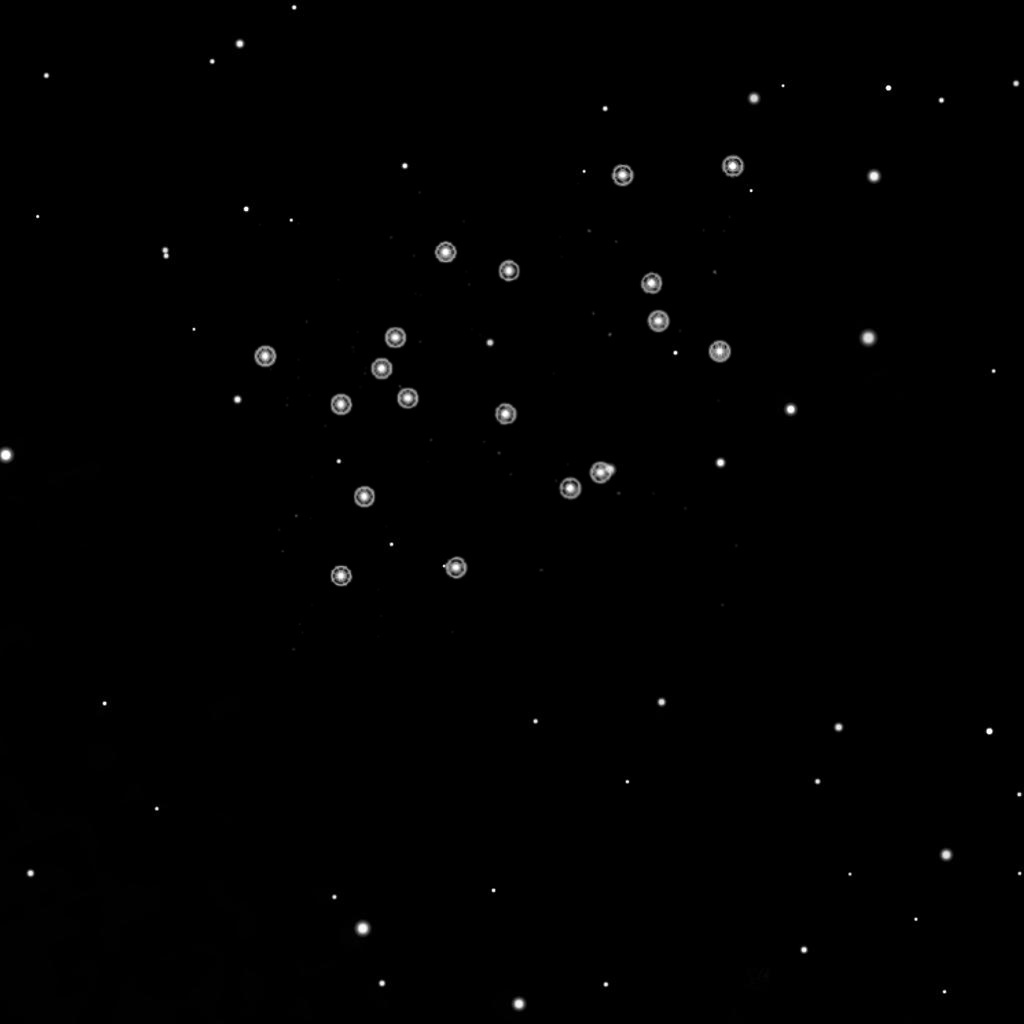canis_major: (324, 238, 525, 422)
